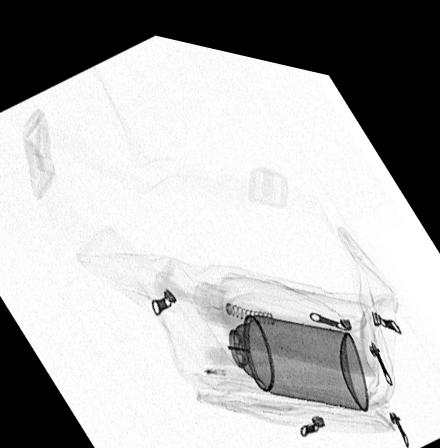Sprayer: (196, 295, 368, 395)
